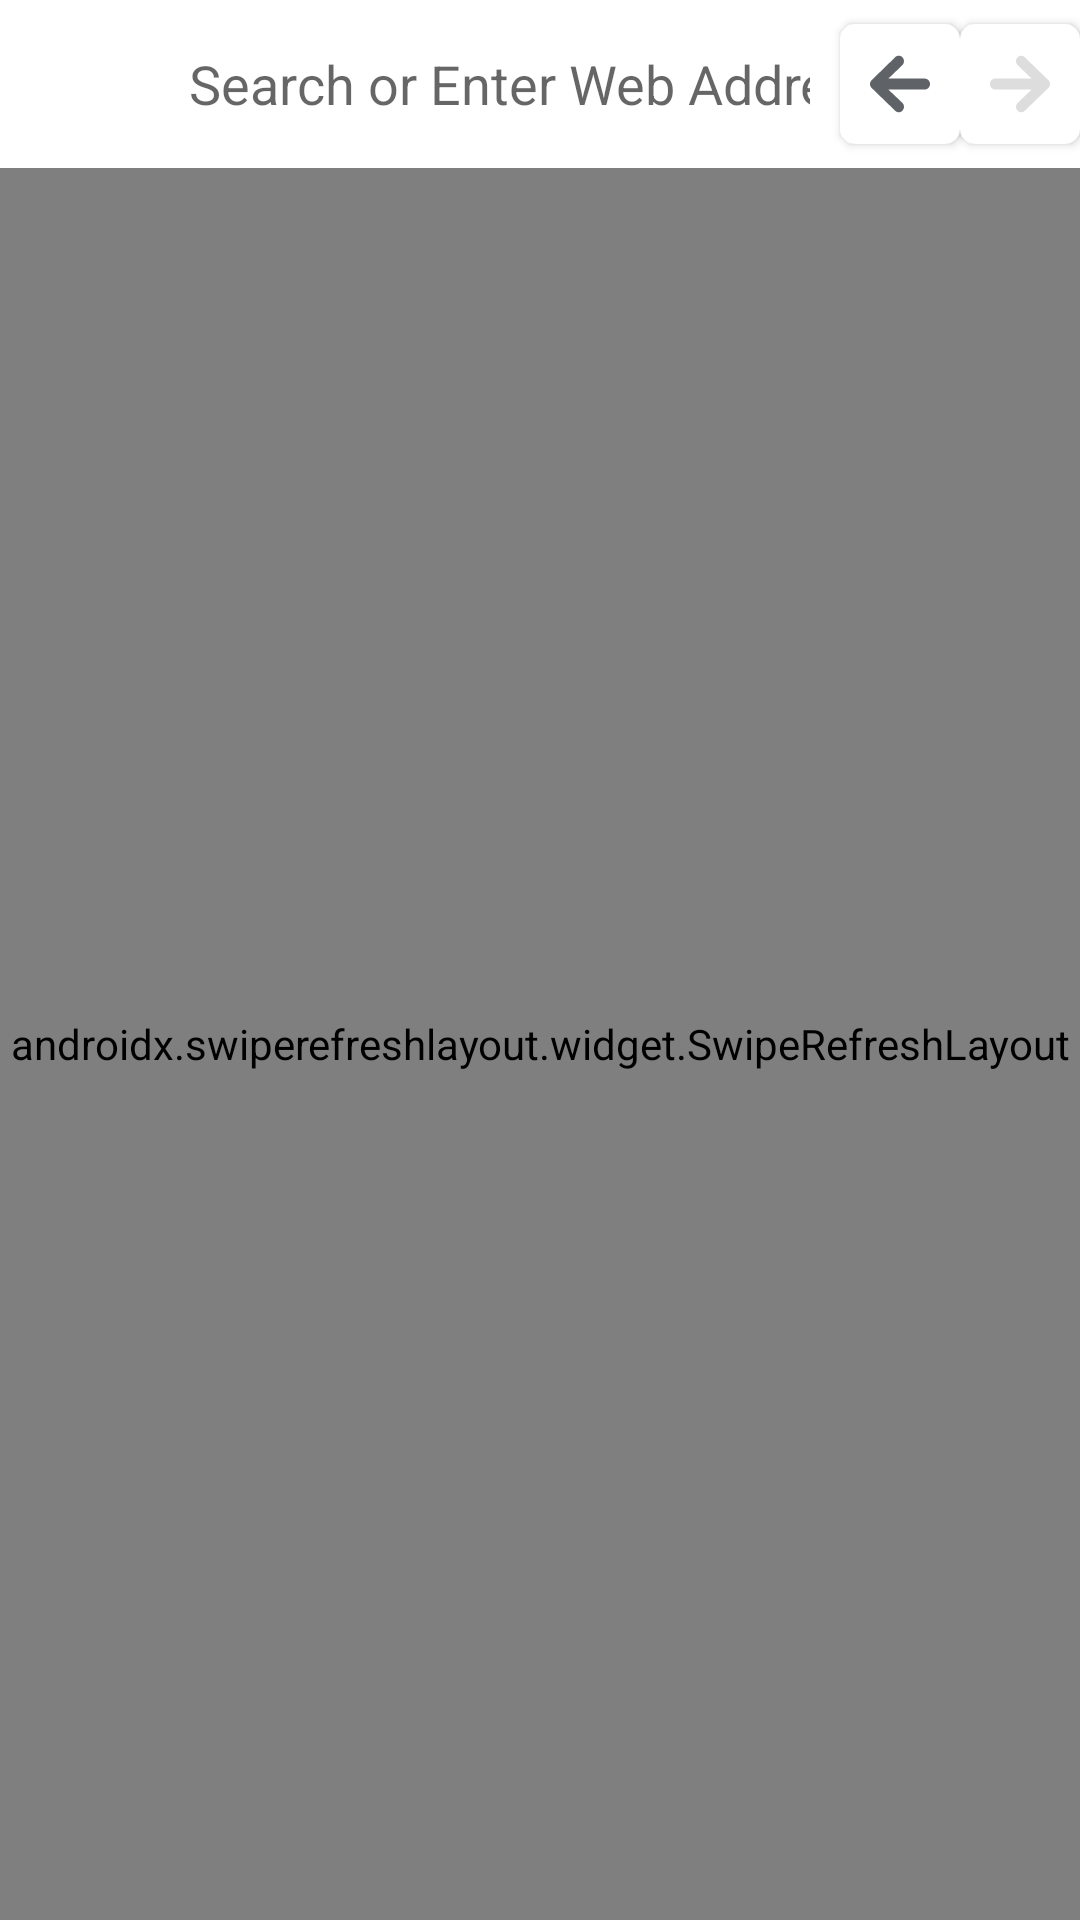

Icons on this 1080px x 1920px Android screen, each with its box as (x1, y1, x2, y2):
back arrow: (870, 24, 960, 144)
forward arrow: (990, 24, 1080, 144)
